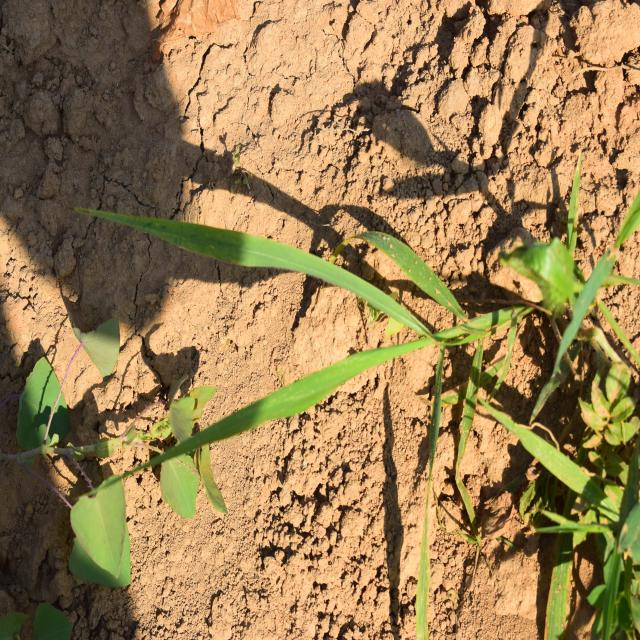green_foxtail: (179, 205, 499, 546)
